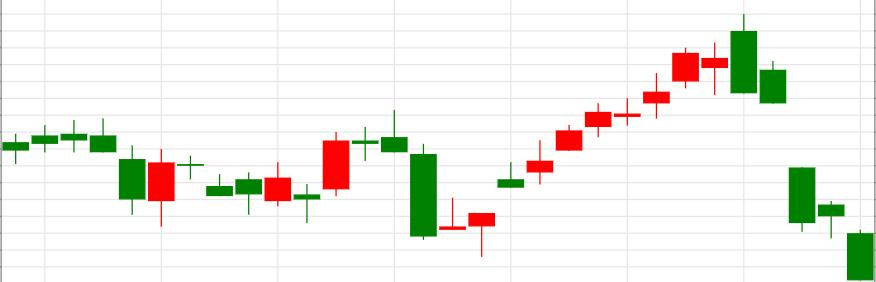bearish_engulfing_fall: (467, 14, 758, 257)
